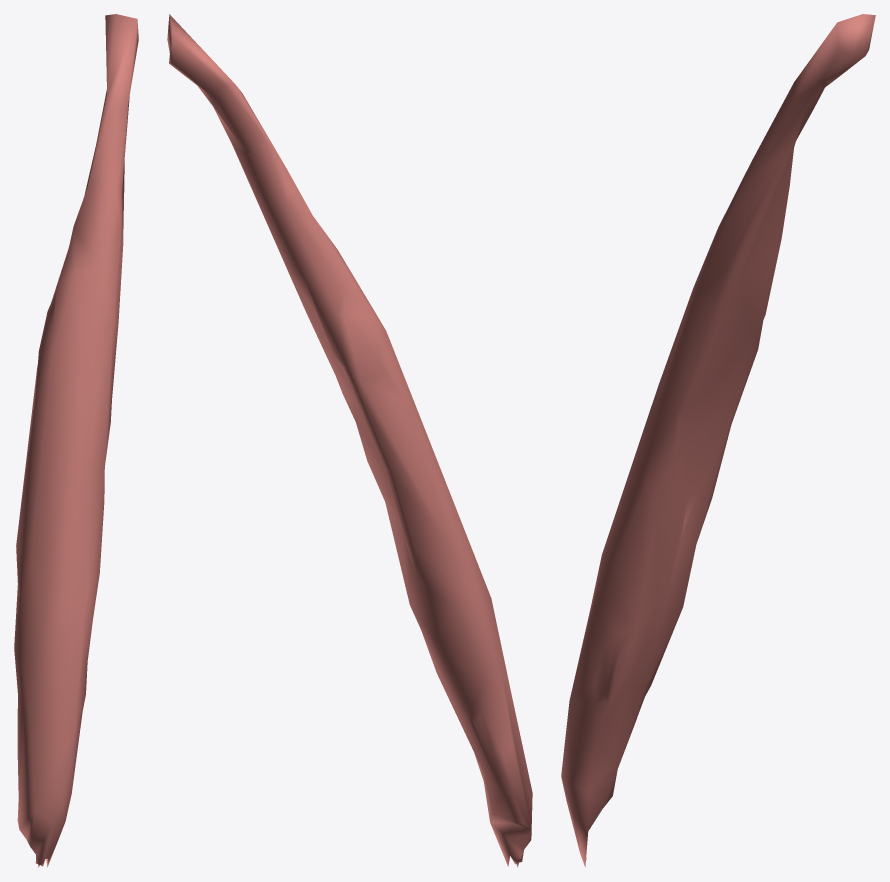
3 views of the same model, side by side, from view 1: azimuth 30°, elevation 25°; view 2: azimuth 150°, elevation 25°; view 3: azimuth 270°, elevation 25° (orthographic). The views are drawn at different scales.
Parts seen in each view (by area): view 1: ZA_71903207e4317d7f; view 2: ZA_71903207e4317d7f; view 3: ZA_71903207e4317d7f.
Part boxes in pixels (x1=…): ZA_71903207e4317d7f: x1=14, y1=14, x2=138, y2=867; ZA_71903207e4317d7f: x1=167, y1=14, x2=532, y2=867; ZA_71903207e4317d7f: x1=561, y1=14, x2=875, y2=866.
Size of the model in its own units: 0.0186 by 0.0619 by 0.0183.
